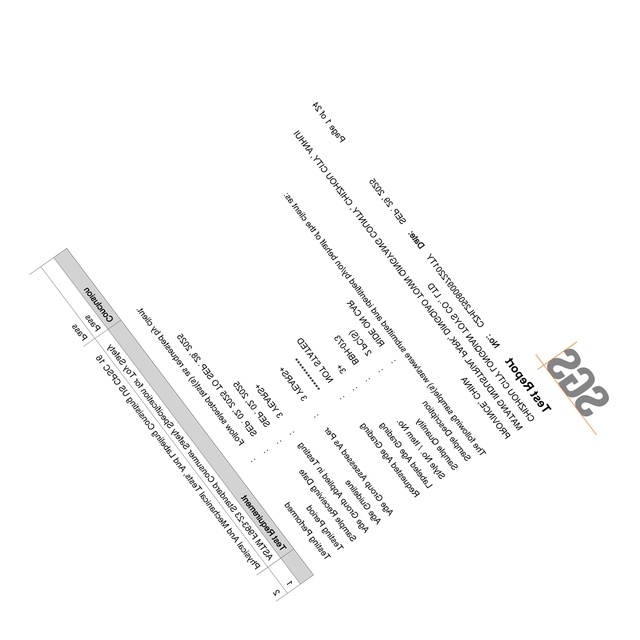sgs: (547, 348, 609, 415)
